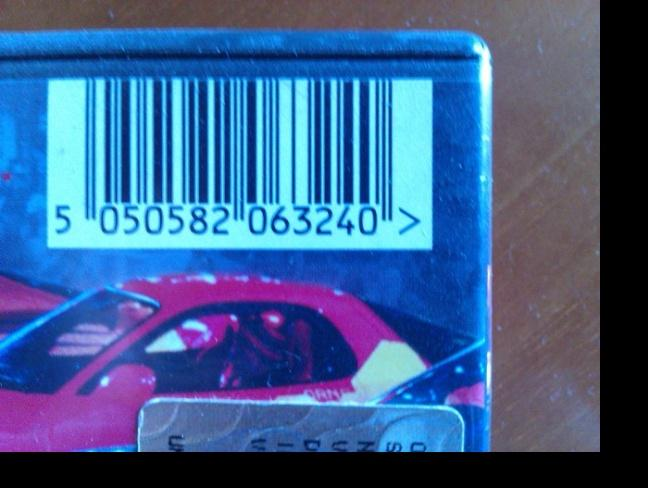Barcode: (48, 76, 399, 248)
